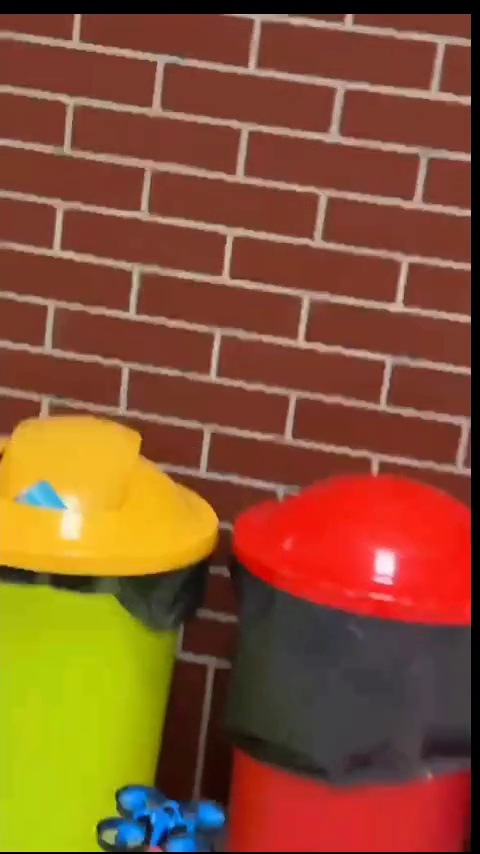drone: (99, 780, 232, 852)
